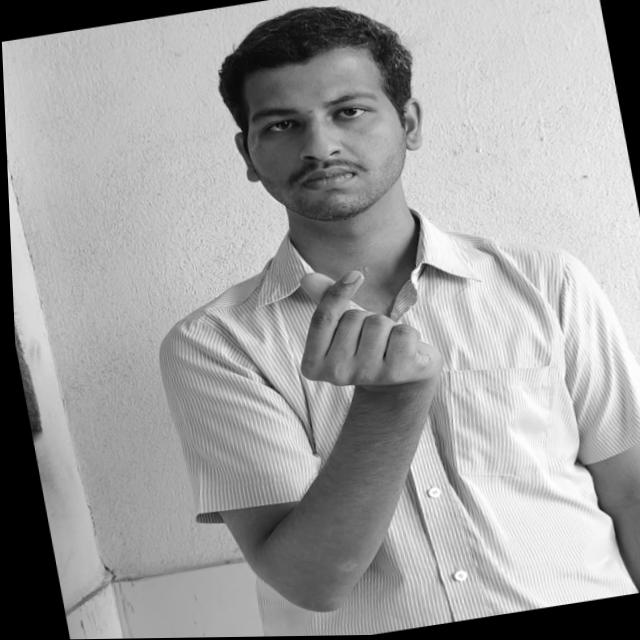Grattitude: (278, 255, 444, 403)
